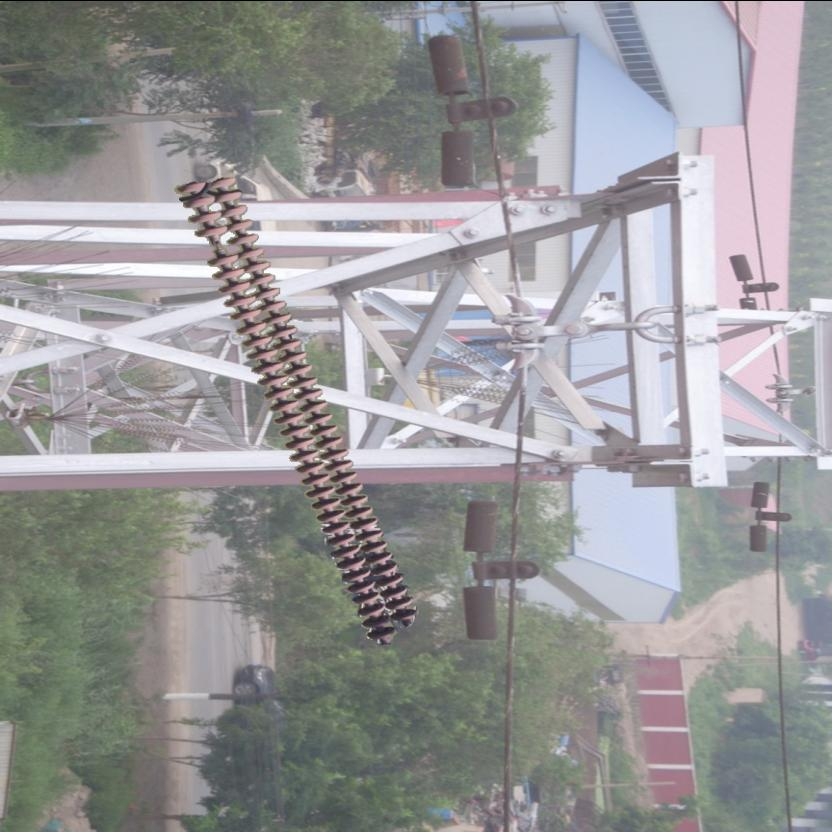defect: (194, 221, 242, 270)
